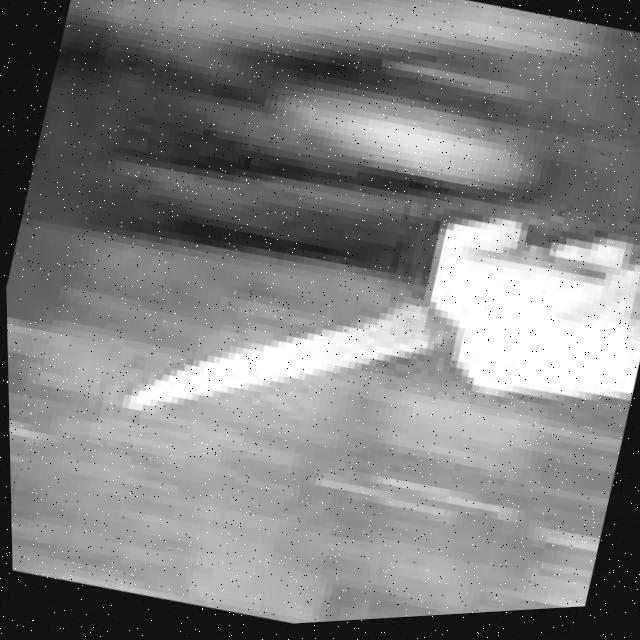knife: (117, 241, 451, 484)
